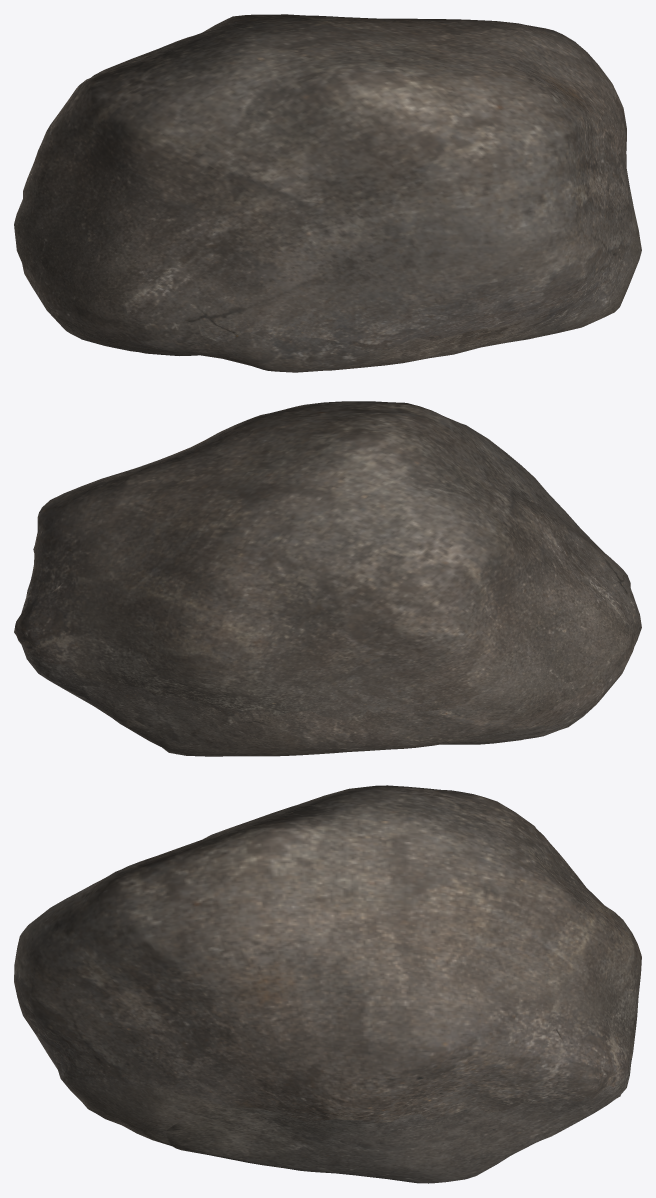
The model's file is Rock_01.FBX.
The picture shows the model from 3 angles, top to bottom: view 1: azimuth 30°, elevation 25°; view 2: azimuth 150°, elevation 25°; view 3: azimuth 270°, elevation 25°; orthographic projection. The views are drawn at different scales.
Parts seen in each view (by area): view 1: Rock_01; view 2: Rock_01; view 3: Rock_01.
Boxes of the visible parts, x1,y1,x2,y2 form: Rock_01: (14,14,641,372); Rock_01: (14,401,641,756); Rock_01: (14,785,641,1183).
Bounding box in the file's own units: 690 × 659 × 307.
Materials: 1 (1 with a texture image).
